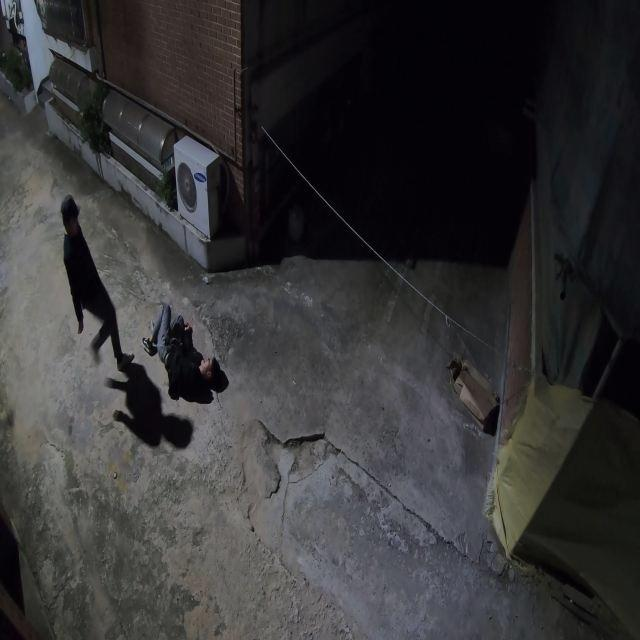fight: (59, 192, 234, 384)
